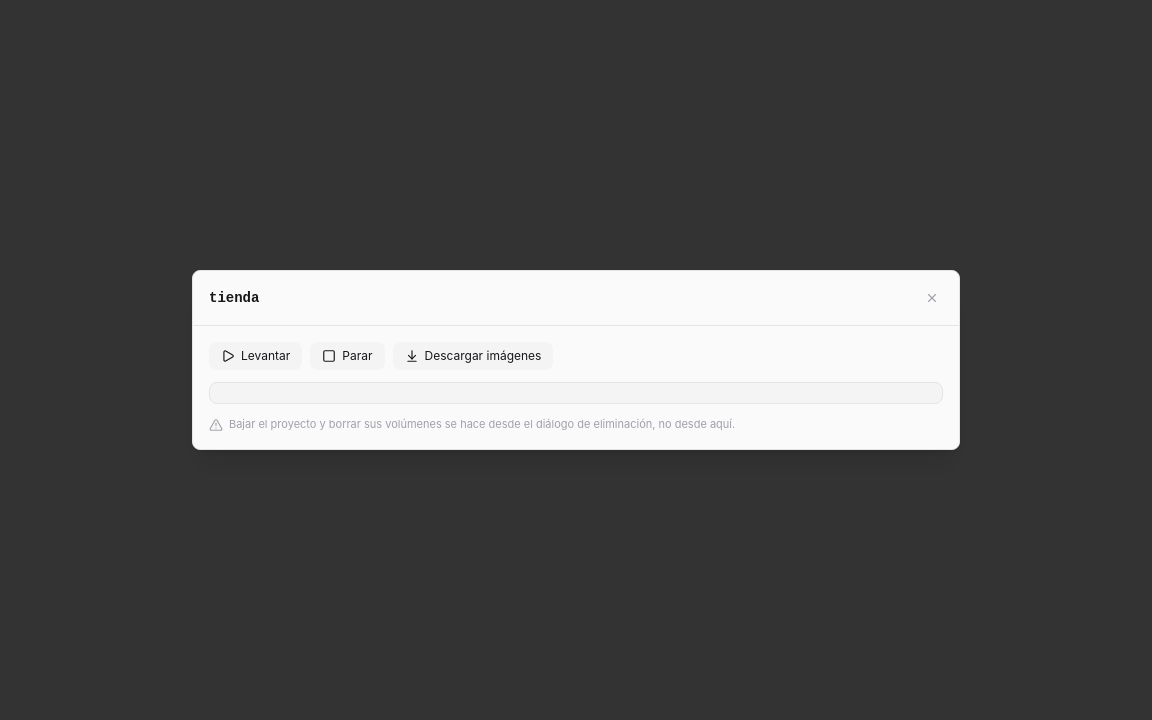
Test case: ComposeActionPanel › un fallo de compose se presenta como fallo de compose, no del panel
Click the button "Levantar". click: x=256, y=356
box: [209,342,302,370]
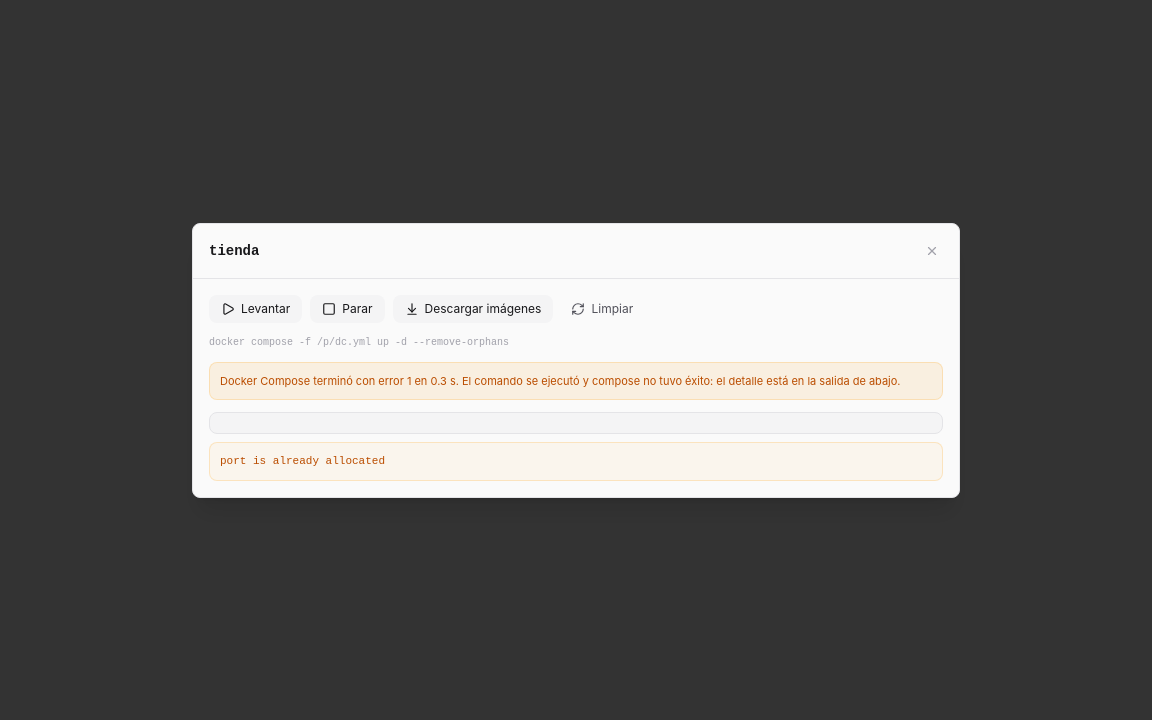
Expected: the text with test id "compose-exit" shows "Compose", [220,374,407,388]
Expected: the text with test id "compose-exit" shows "1", [407,374,411,388]
